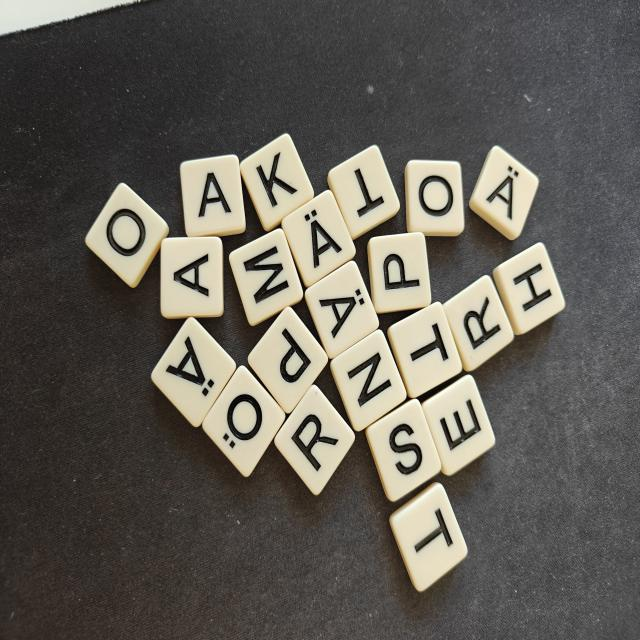a: (180, 155, 246, 237), (160, 236, 224, 318)
a_dot: (151, 317, 236, 427), (282, 190, 355, 287), (305, 261, 378, 358), (469, 146, 539, 240)
e: (422, 375, 495, 475)
h: (493, 242, 565, 335)
k: (240, 134, 314, 231)
m: (229, 229, 303, 326)
n: (330, 329, 407, 431)
o: (86, 183, 169, 287), (405, 160, 464, 236)
o_dot: (202, 366, 285, 476)
p: (248, 307, 328, 413), (368, 232, 431, 313)
r: (275, 385, 355, 495), (443, 275, 514, 371)
s: (365, 399, 441, 501)
t: (390, 482, 467, 591), (388, 302, 462, 398), (328, 145, 400, 238)
